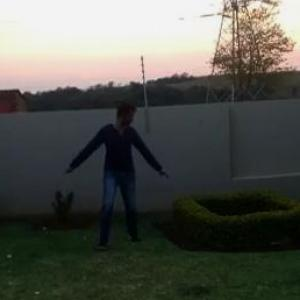land: (42, 92, 180, 287)
